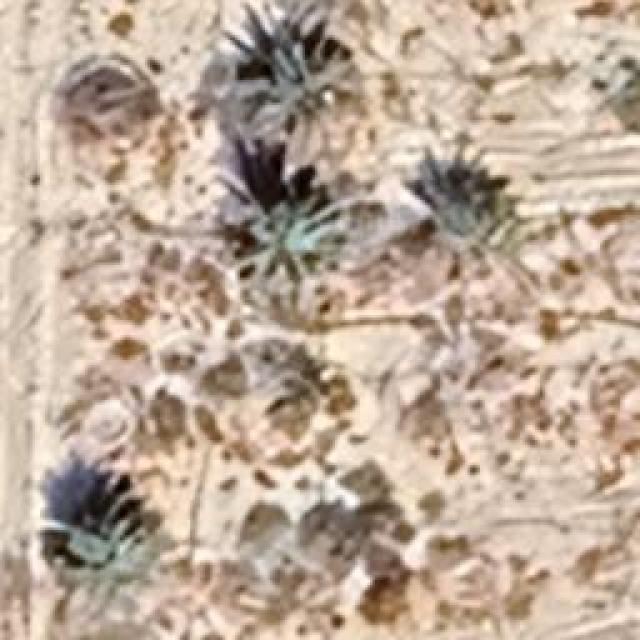PalmTree: (245, 42, 368, 170), (40, 480, 178, 570), (252, 340, 352, 442), (421, 162, 499, 272), (237, 200, 345, 278)
